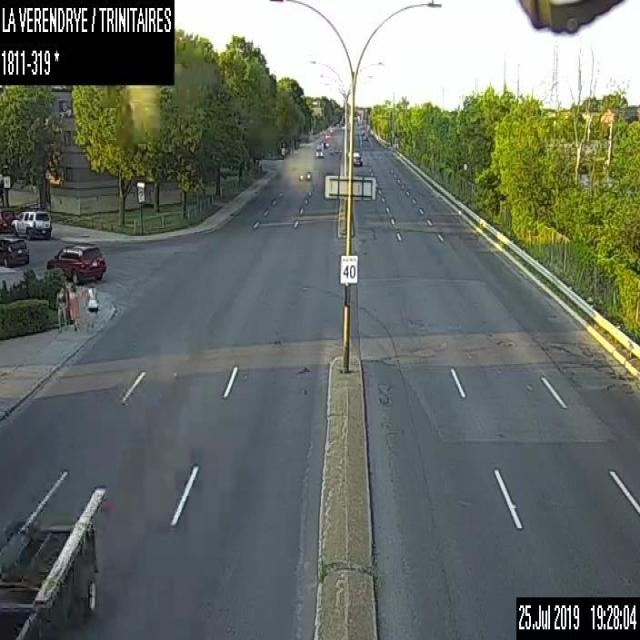pedestrian: (84, 284, 101, 329), (67, 283, 80, 332), (55, 283, 68, 332)
vehicle: (0, 484, 107, 638), (46, 240, 106, 281), (12, 210, 51, 239), (0, 235, 29, 266), (0, 208, 15, 232), (298, 168, 311, 181), (352, 151, 362, 165), (314, 148, 322, 158), (321, 140, 328, 148), (362, 133, 368, 139), (360, 129, 365, 135)
